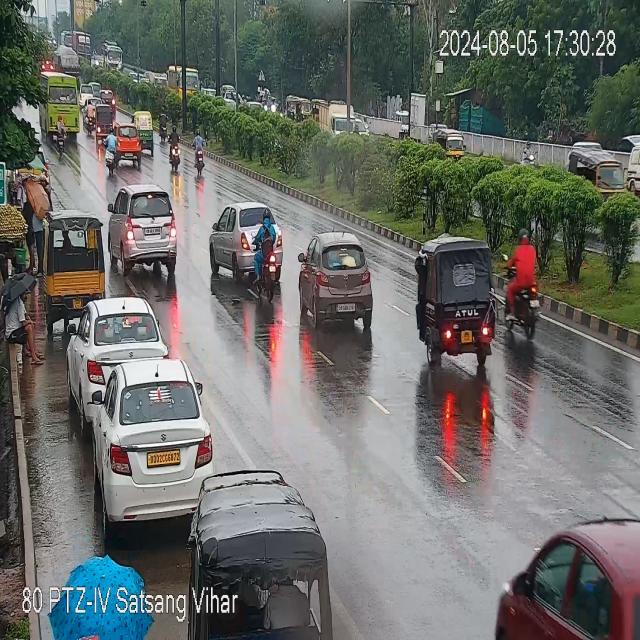2-wheelers: (506, 221, 556, 346), (256, 212, 289, 298), (516, 131, 555, 171), (194, 122, 214, 179), (162, 128, 188, 170), (53, 115, 77, 156), (84, 98, 99, 134), (158, 100, 169, 143)
auto: (197, 466, 319, 581), (426, 238, 496, 364), (48, 206, 104, 304), (571, 144, 621, 212), (132, 109, 156, 153), (296, 92, 318, 126), (443, 128, 465, 155), (288, 85, 298, 118)
bus: (40, 61, 86, 145), (169, 59, 199, 97), (104, 36, 123, 69)
car: (485, 420, 637, 640), (91, 376, 202, 518), (72, 299, 162, 423), (302, 226, 374, 337), (214, 185, 278, 301), (116, 176, 182, 276), (621, 106, 640, 198), (78, 78, 99, 109), (100, 85, 118, 115)
pedestrian: (4, 266, 42, 380), (34, 198, 52, 270), (22, 190, 36, 266), (15, 170, 30, 213)
truck: (321, 94, 367, 136), (68, 24, 95, 62), (59, 44, 78, 76)
